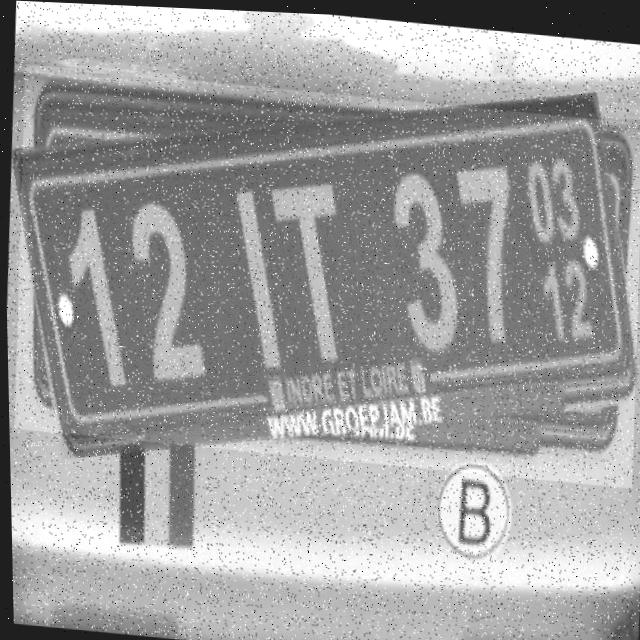LicensePlate: (6, 63, 640, 483)
